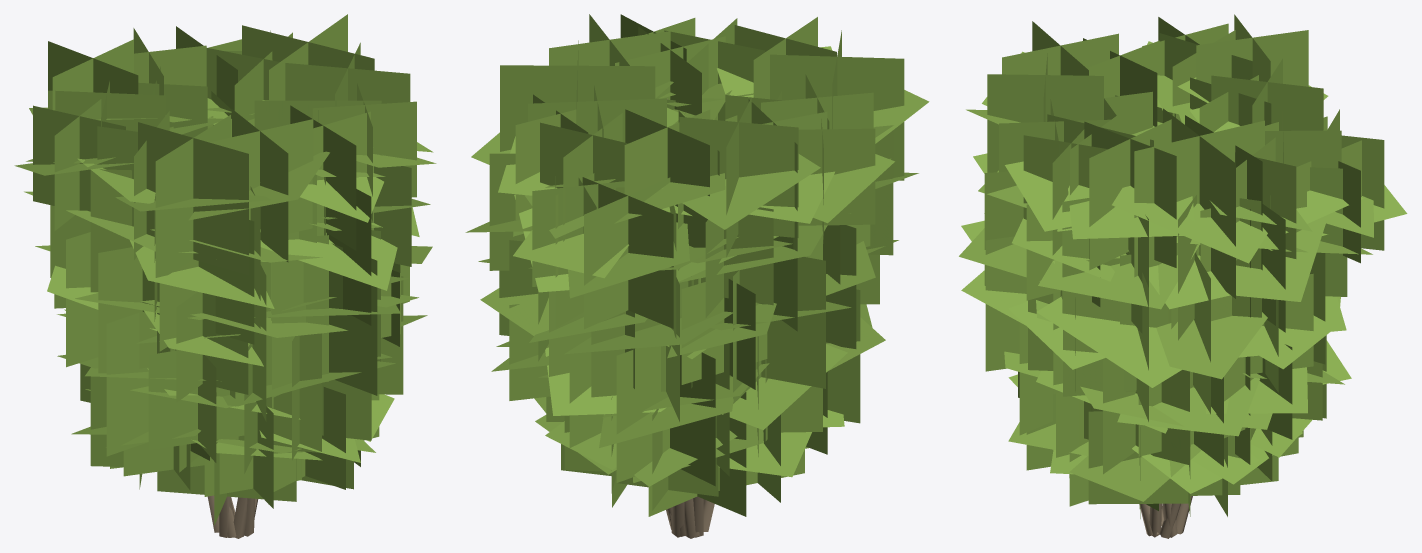
Rendered from noisetier_5_f3_loin.glb.
3 views of the same model, side by side, from view 1: azimuth 30°, elevation 25°; view 2: azimuth 150°, elevation 25°; view 3: azimuth 270°, elevation 25° (orthographic). The views are drawn at different scales.
Visible parts, largest first — view 1: Noisetier_T5_f3_Leger_Loin; view 2: Noisetier_T5_f3_Leger_Loin; view 3: Noisetier_T5_f3_Leger_Loin.
Boxes of the visible parts, x1=… form: Noisetier_T5_f3_Leger_Loin: x1=14, y1=14, x2=436, y2=538; Noisetier_T5_f3_Leger_Loin: x1=465, y1=14, x2=929, y2=538; Noisetier_T5_f3_Leger_Loin: x1=959, y1=14, x2=1407, y2=538.
Size of the model in its own units: 7.01 by 7.95 by 7.2.
